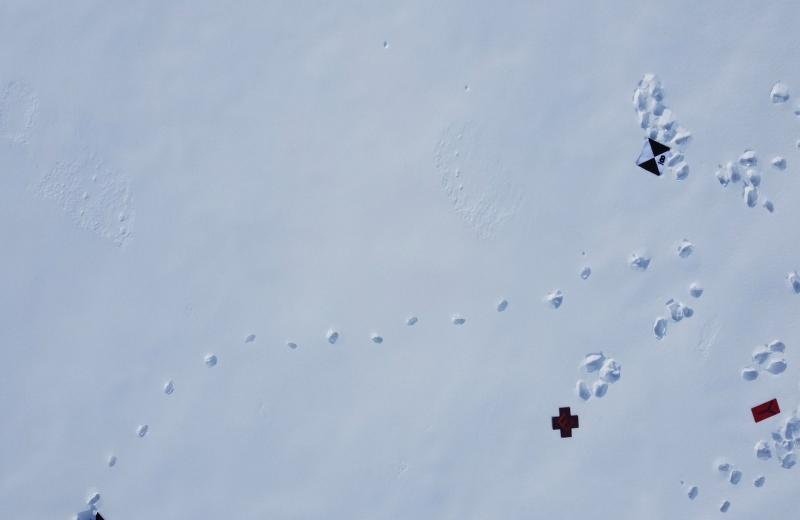Rectangle: (546, 401, 582, 442)
